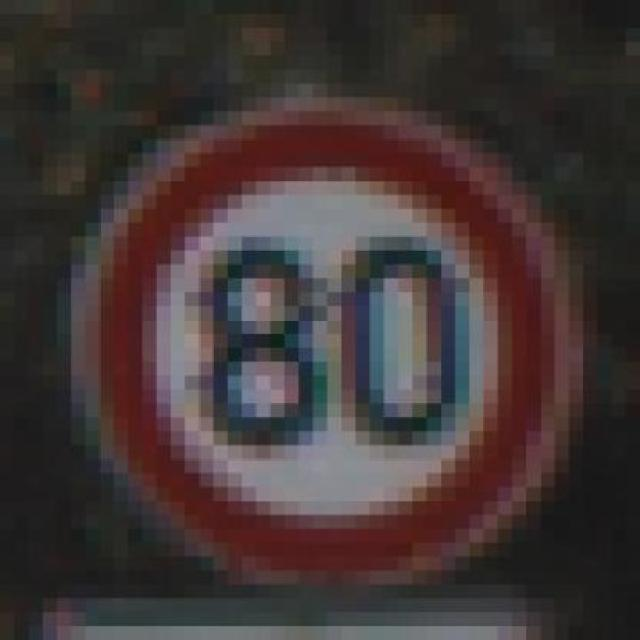forb_speed_over_80: (89, 113, 565, 587)
